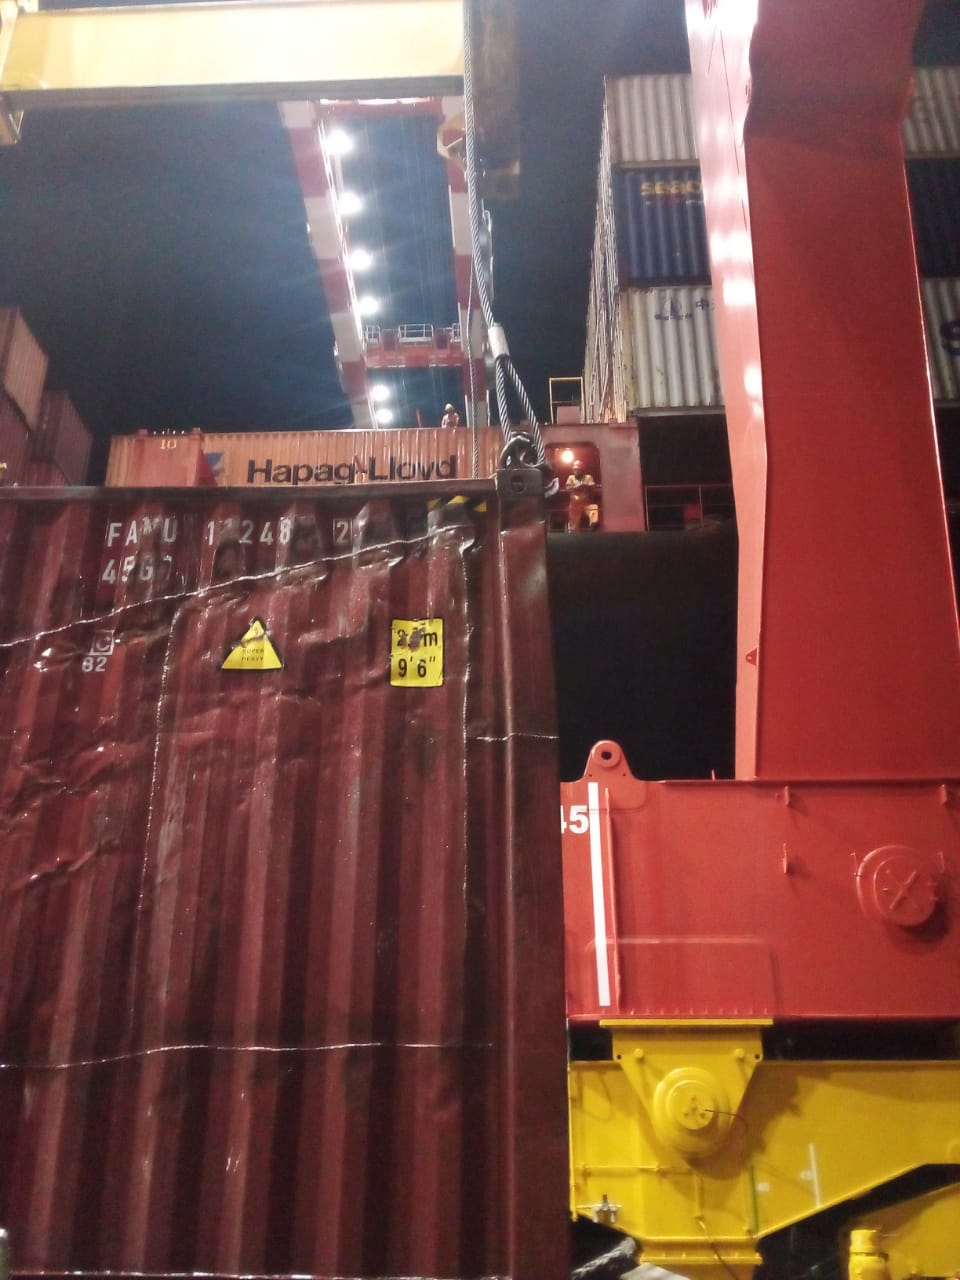dented: (24, 496, 501, 885)
